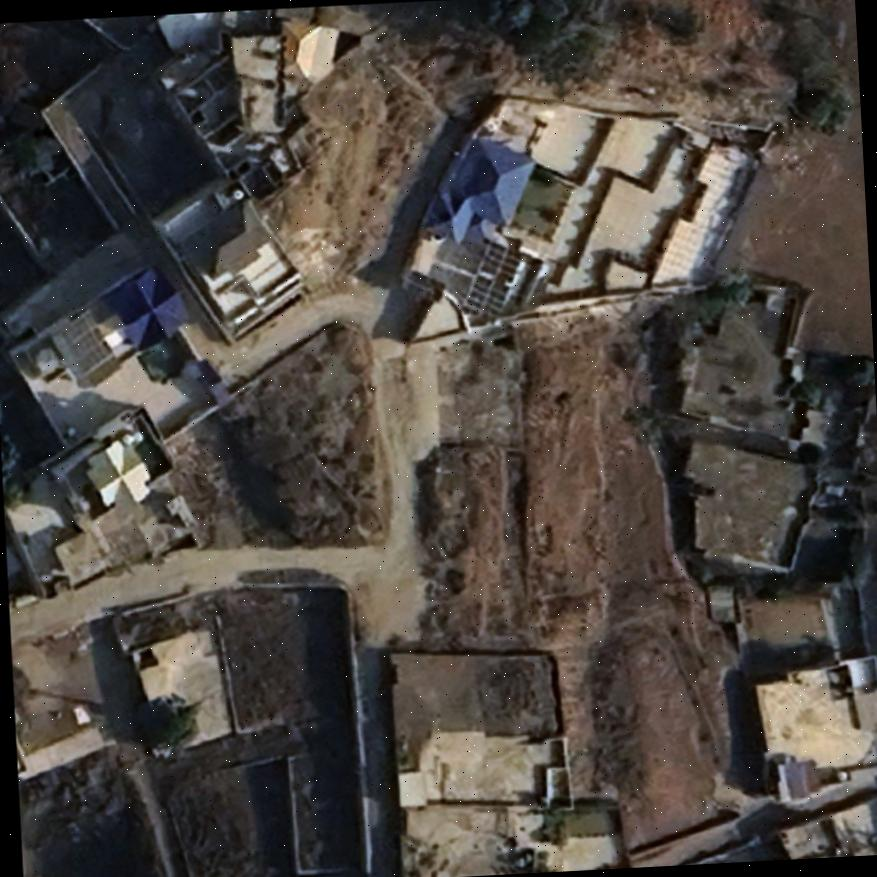Solarpanel: (455, 231, 530, 334)
